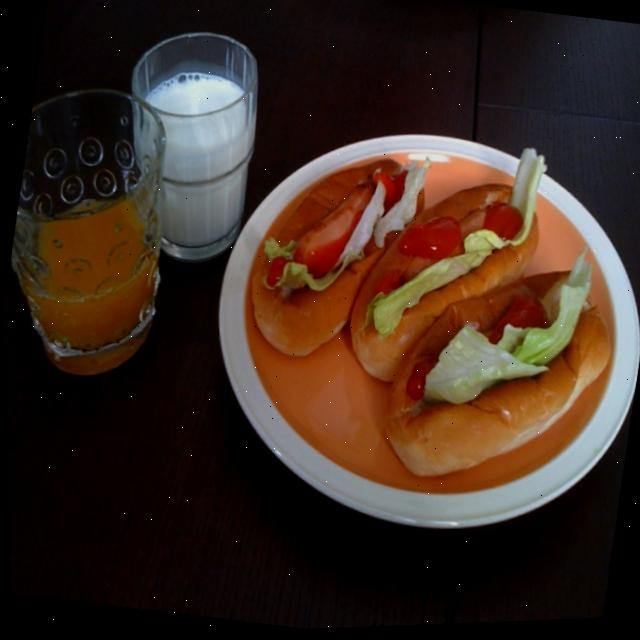汉堡快餐: (210, 111, 640, 569)
